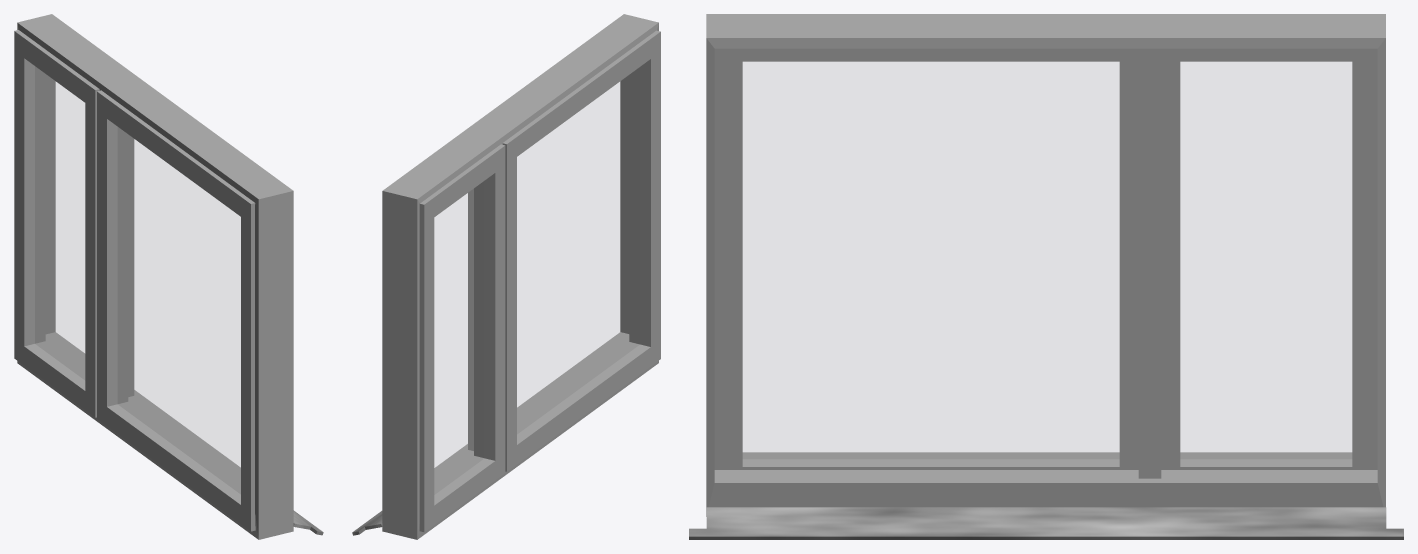
File: Window_Rec.fbx
3 views of the same model, side by side, from view 1: azimuth 30°, elevation 25°; view 2: azimuth 150°, elevation 25°; view 3: azimuth 270°, elevation 25° (orthographic). The views are drawn at different scales.
Visible parts, largest first — view 1: Window_rectangle_south_2-16.012; view 2: Window_rectangle_south_2-16.012; view 3: Window_rectangle_south_2-16.012.
Part boxes in pixels (box(x1,y1,x2,y2)): Window_rectangle_south_2-16.012: box(14, 14, 323, 539); Window_rectangle_south_2-16.012: box(352, 14, 660, 539); Window_rectangle_south_2-16.012: box(689, 14, 1403, 539).
Size of the model in its own units: 27.43 by 142 by 189.
Materials: 3 (3 with a texture image).
